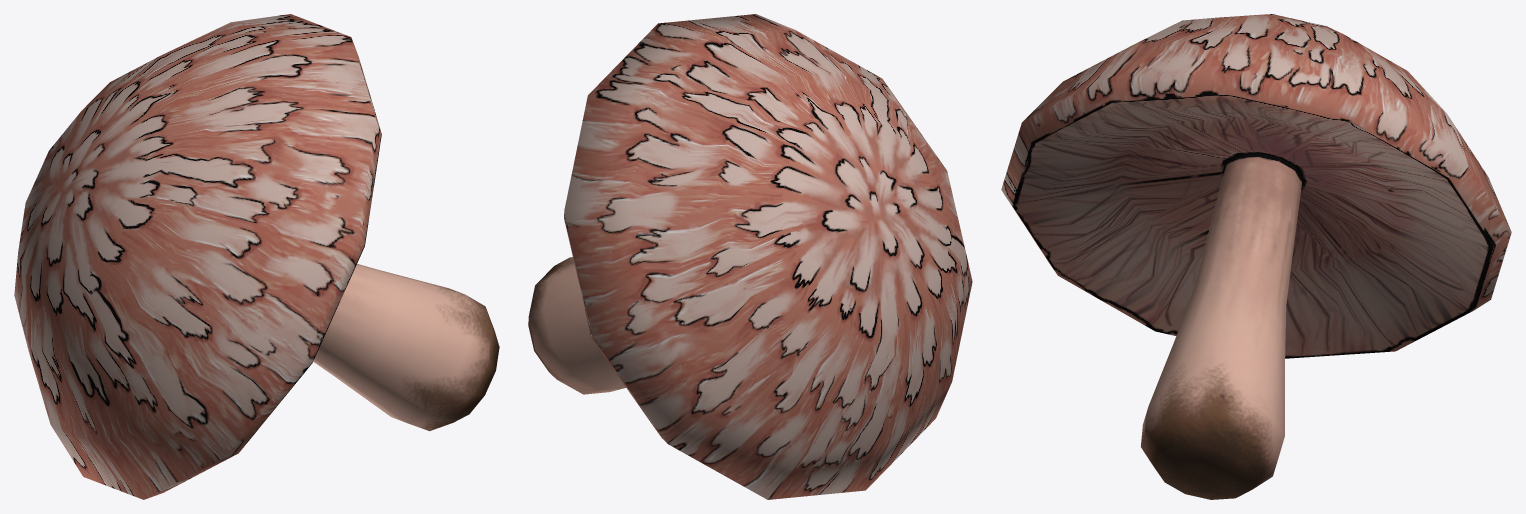
The model's file is SM_Mushroom.fbx.
3 views of the same model, side by side, from view 1: azimuth 30°, elevation 25°; view 2: azimuth 150°, elevation 25°; view 3: azimuth 270°, elevation 25° (orthographic). The views are drawn at different scales.
Parts seen in each view (by area): view 1: SM_Mushroom; view 2: SM_Mushroom; view 3: SM_Mushroom.
Boxes of the visible parts, left/top/right/bottom form: SM_Mushroom: left=14, top=14, right=499, bottom=499; SM_Mushroom: left=528, top=14, right=972, bottom=499; SM_Mushroom: left=1001, top=14, right=1511, bottom=499.
Bounding box in the file's own units: 31.47 × 28.88 × 33.26.
